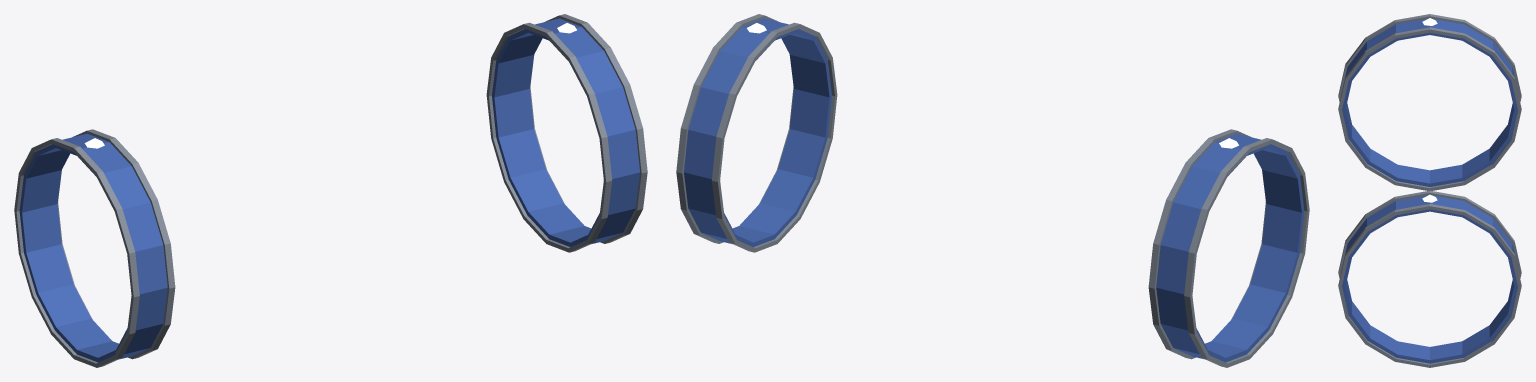
Rendered from armor_lord_arms_rare_orc.glb.
3 views of the same model, side by side, from view 1: azimuth 30°, elevation 25°; view 2: azimuth 150°, elevation 25°; view 3: azimuth 270°, elevation 25° (orthographic). The views are drawn at different scales.
Visible parts, largest first — view 1: armor_lord_arms_rare_orc__lowerarm_l, armor_lord_arms_rare_orc__lowerarm_r; view 2: armor_lord_arms_rare_orc__lowerarm_l, armor_lord_arms_rare_orc__lowerarm_r; view 3: armor_lord_arms_rare_orc__lowerarm_l, armor_lord_arms_rare_orc__lowerarm_r.
Part boxes in pixels (bbox=[...]): armor_lord_arms_rare_orc__lowerarm_l: bbox=[486, 14, 647, 252]; armor_lord_arms_rare_orc__lowerarm_r: bbox=[14, 129, 175, 367]; armor_lord_arms_rare_orc__lowerarm_l: bbox=[676, 14, 837, 252]; armor_lord_arms_rare_orc__lowerarm_r: bbox=[1148, 129, 1309, 367]; armor_lord_arms_rare_orc__lowerarm_l: bbox=[1338, 190, 1521, 367]; armor_lord_arms_rare_orc__lowerarm_r: bbox=[1338, 14, 1521, 190].
Bounding box in the file's own units: 118 × 47.51 × 47.6.
